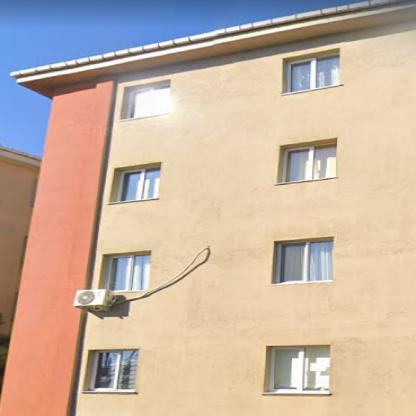window: (271, 348, 329, 392), (279, 240, 333, 282), (284, 142, 336, 182), (288, 54, 338, 93), (94, 350, 138, 390), (105, 254, 150, 290), (119, 167, 160, 202), (132, 85, 169, 117)
